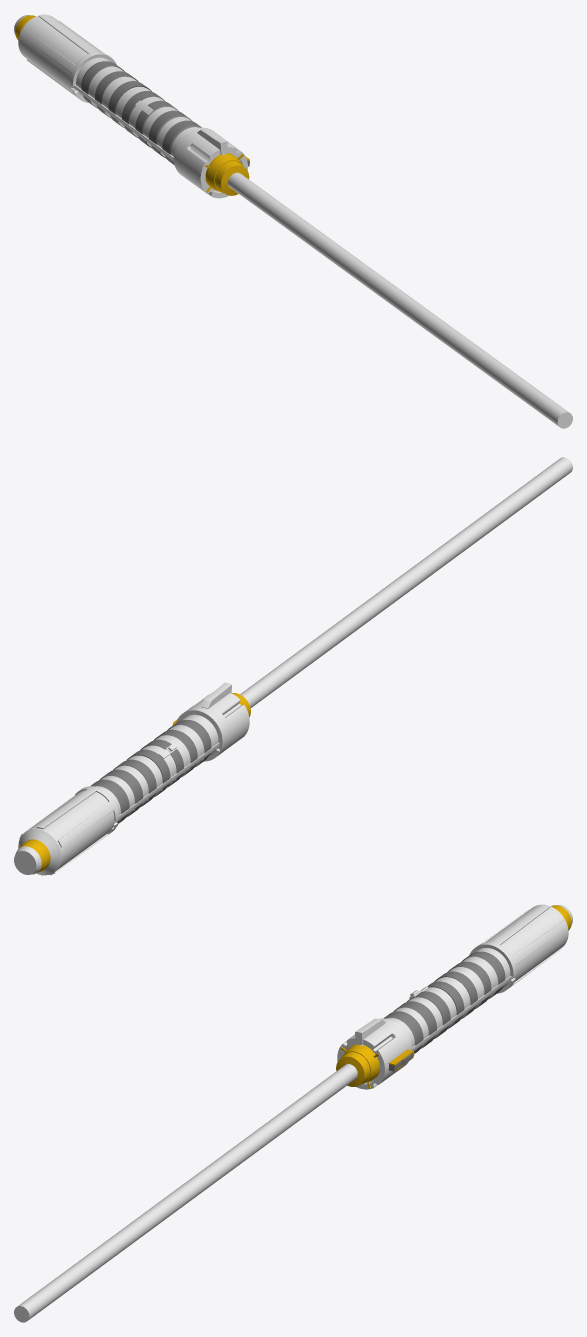
The model's file is Lightsaber.dae.
The picture shows the model from 3 angles, top to bottom: view 1: azimuth 30°, elevation 25°; view 2: azimuth 150°, elevation 25°; view 3: azimuth 330°, elevation 25°; orthographic projection.
Parts seen in each view (by area): view 1: Cylinder, Obi_ANH_CLEAN_Klinge_001; view 2: Cylinder, Obi_ANH_CLEAN_Klinge_001; view 3: Cylinder, Obi_ANH_CLEAN_Klinge_001.
Boxes of the visible parts, x1=… form: Cylinder: x1=14, y1=14, x2=249, y2=198; Obi_ANH_CLEAN_Klinge_001: x1=228, y1=172, x2=572, y2=428; Cylinder: x1=14, y1=682, x2=250, y2=875; Obi_ANH_CLEAN_Klinge_001: x1=240, y1=457, x2=572, y2=707; Cylinder: x1=336, y1=904, x2=572, y2=1089; Obi_ANH_CLEAN_Klinge_001: x1=14, y1=1064, x2=357, y2=1322.
Size of the model in its own units: 2.08 by 35.79 by 2.08.
